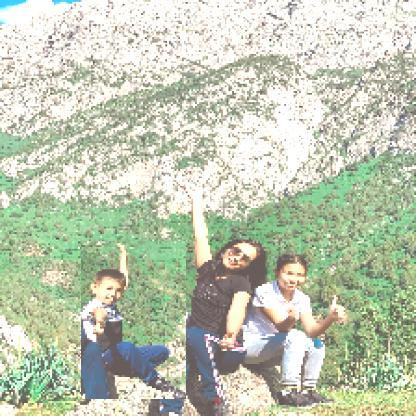child: (83, 242, 189, 401)
